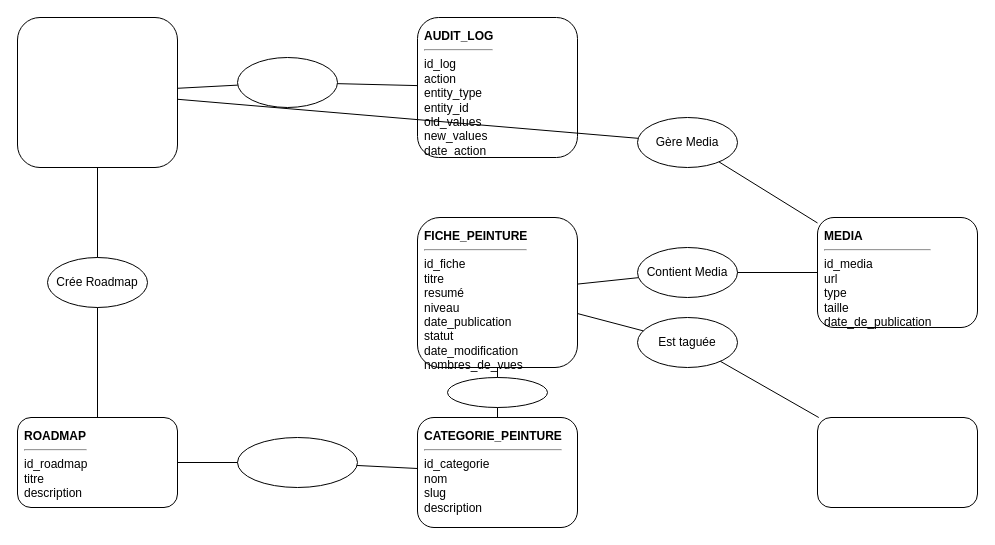
Image size: 995x545. Some labels were removed from this diagram. Here are the shapes that lost their labels. From the top down, the box of each, then its label:
(16, 16, 178, 168): UTILISATEUR id_user nom prénom email motdepasse role date_inscription addresse
(236, 56, 338, 108): Effectue
(446, 376, 548, 408): Est classée
(236, 436, 358, 488): Cible Catégorie
(816, 416, 978, 508): TAG id_tag nom slug
